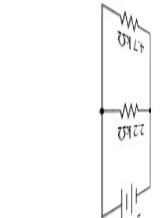resistor: (112, 94, 143, 121), (114, 3, 142, 30)
